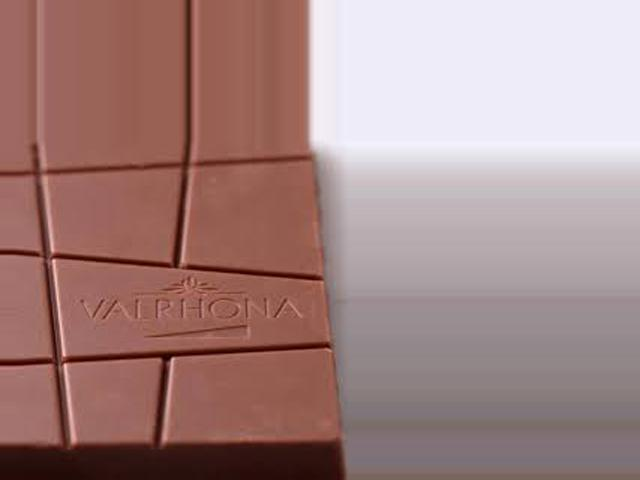chocolate: (13, 142, 348, 460)
